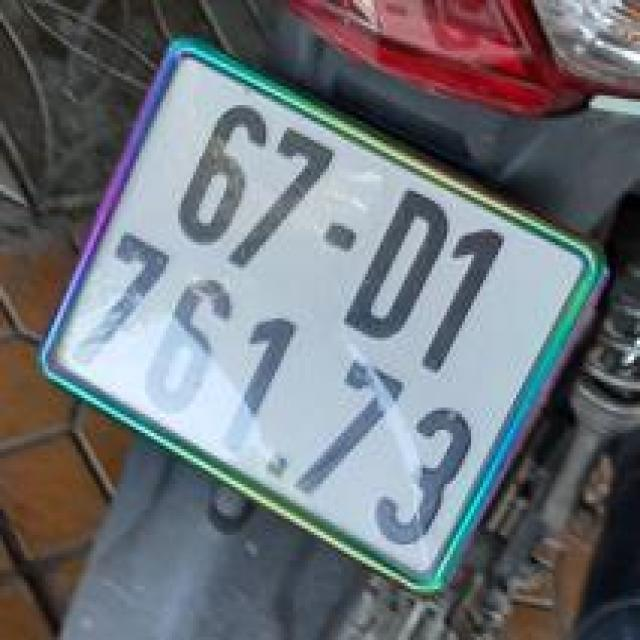1: (399, 203, 522, 387), (197, 304, 315, 472)
3: (356, 396, 487, 561)
6: (116, 259, 252, 434), (166, 88, 286, 258)
7: (214, 118, 347, 296), (282, 351, 413, 531), (56, 217, 175, 395)
D: (320, 167, 467, 357)
